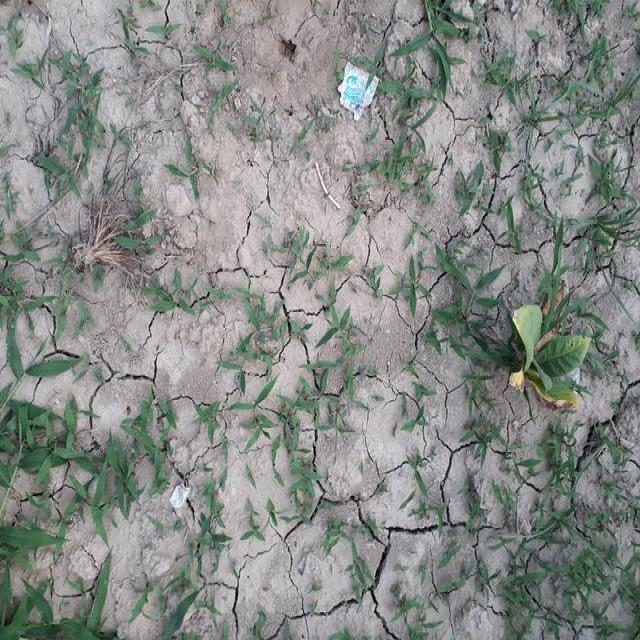crop: (503, 278, 598, 418)
